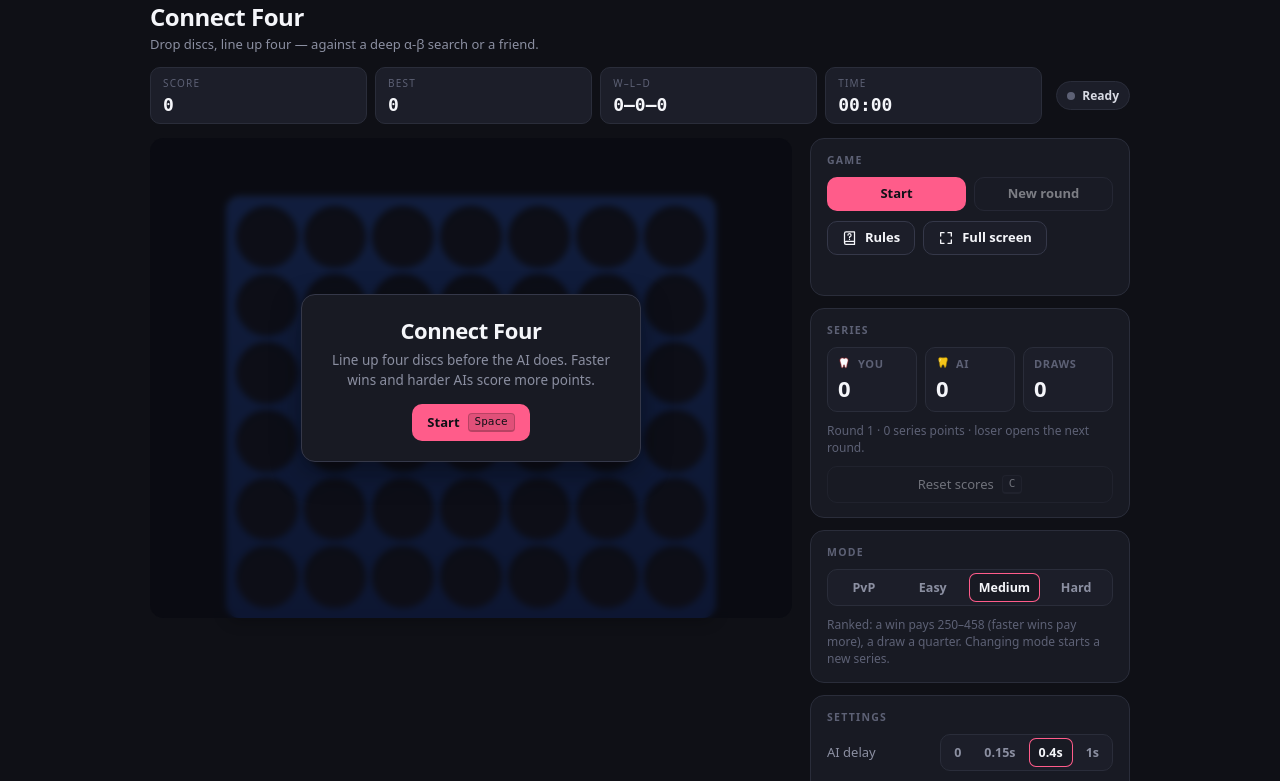
Test case: dental mode › draws red discs as incisors and yellow discs as gold molars
Press n
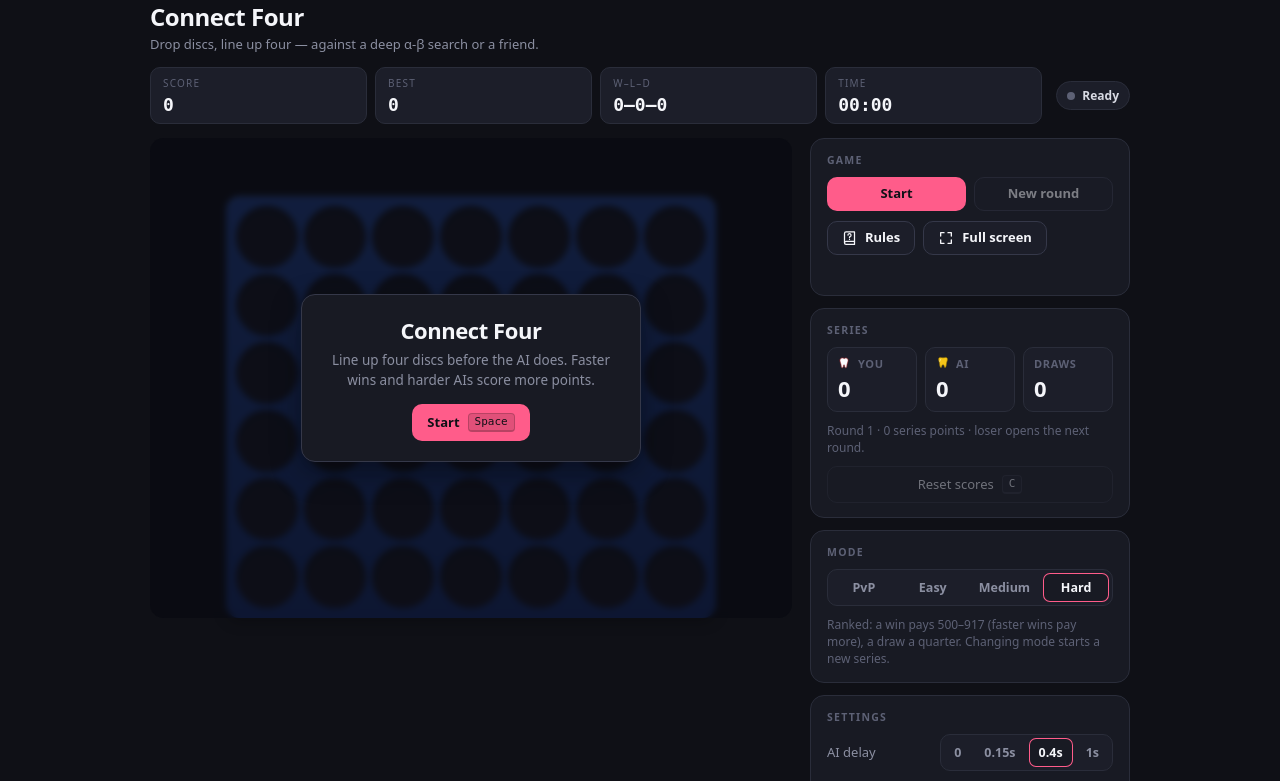
Press n
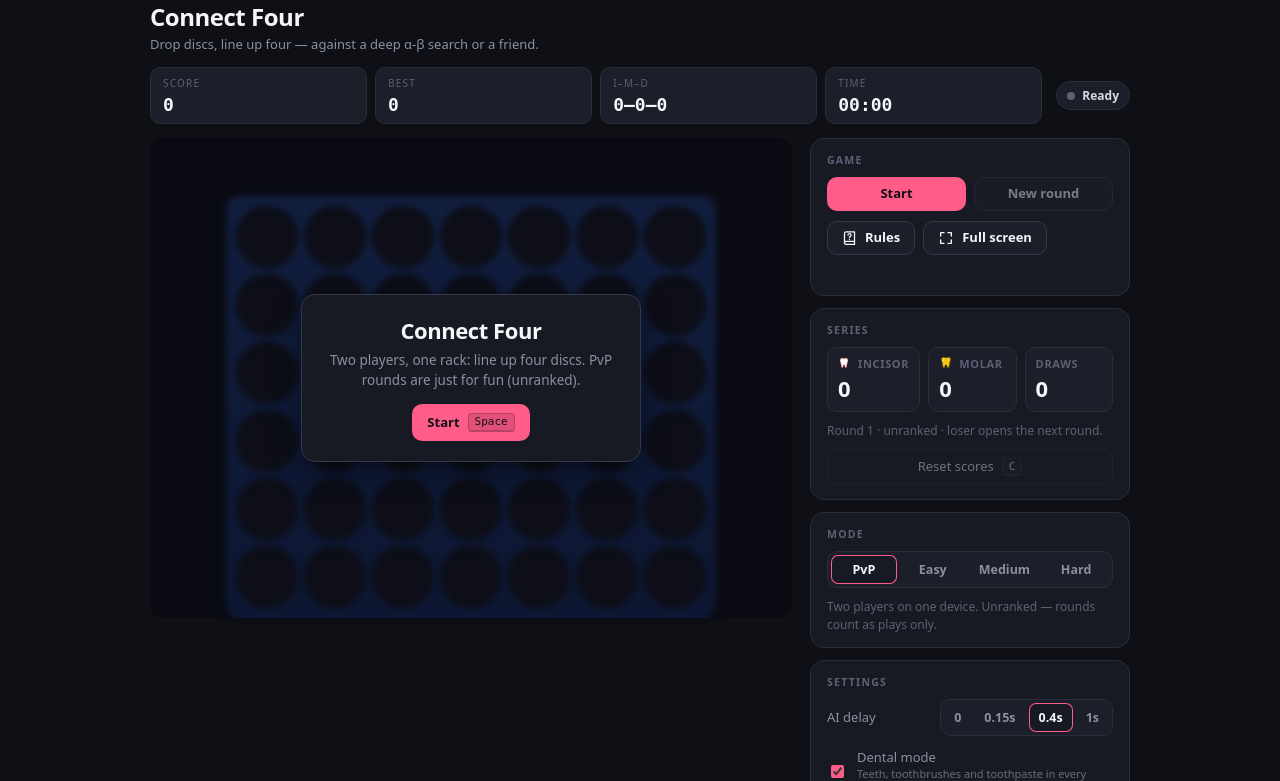
Press Space
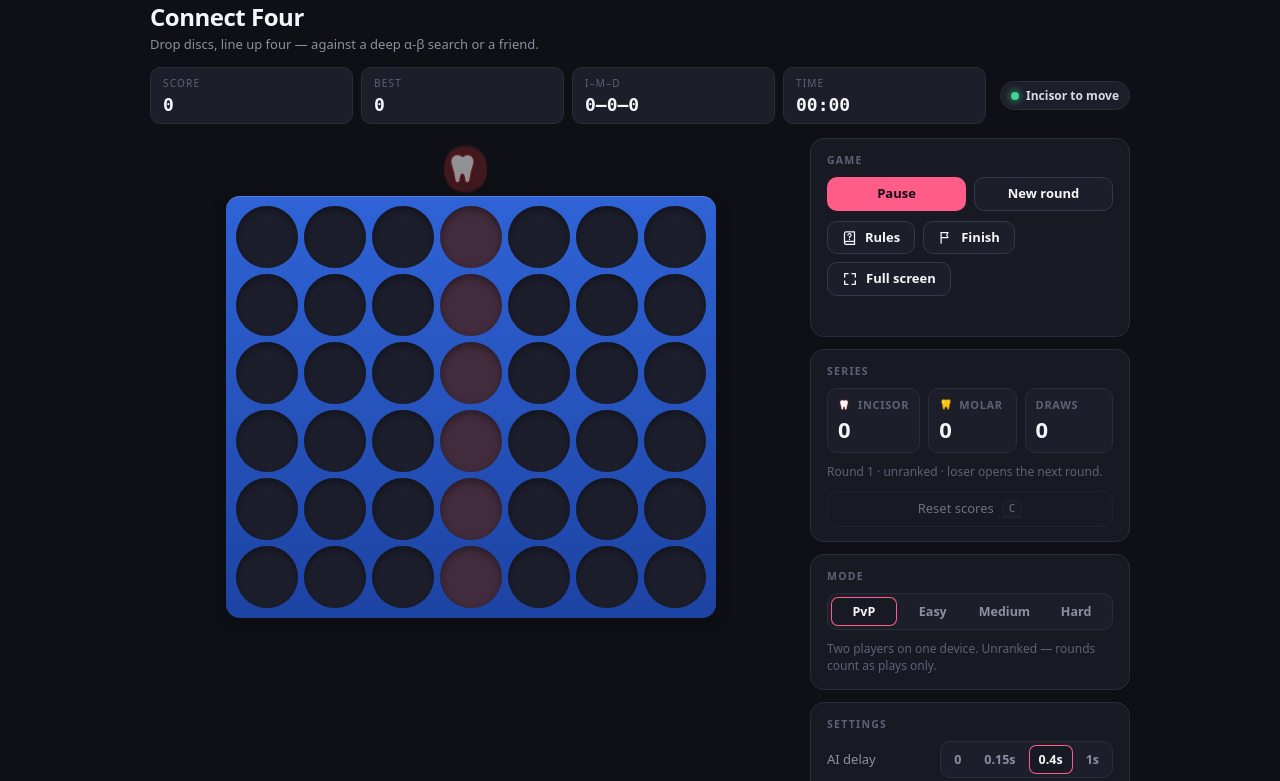
Click the button named "Column 4, empty" at (471, 373), box [440,138,502,608]
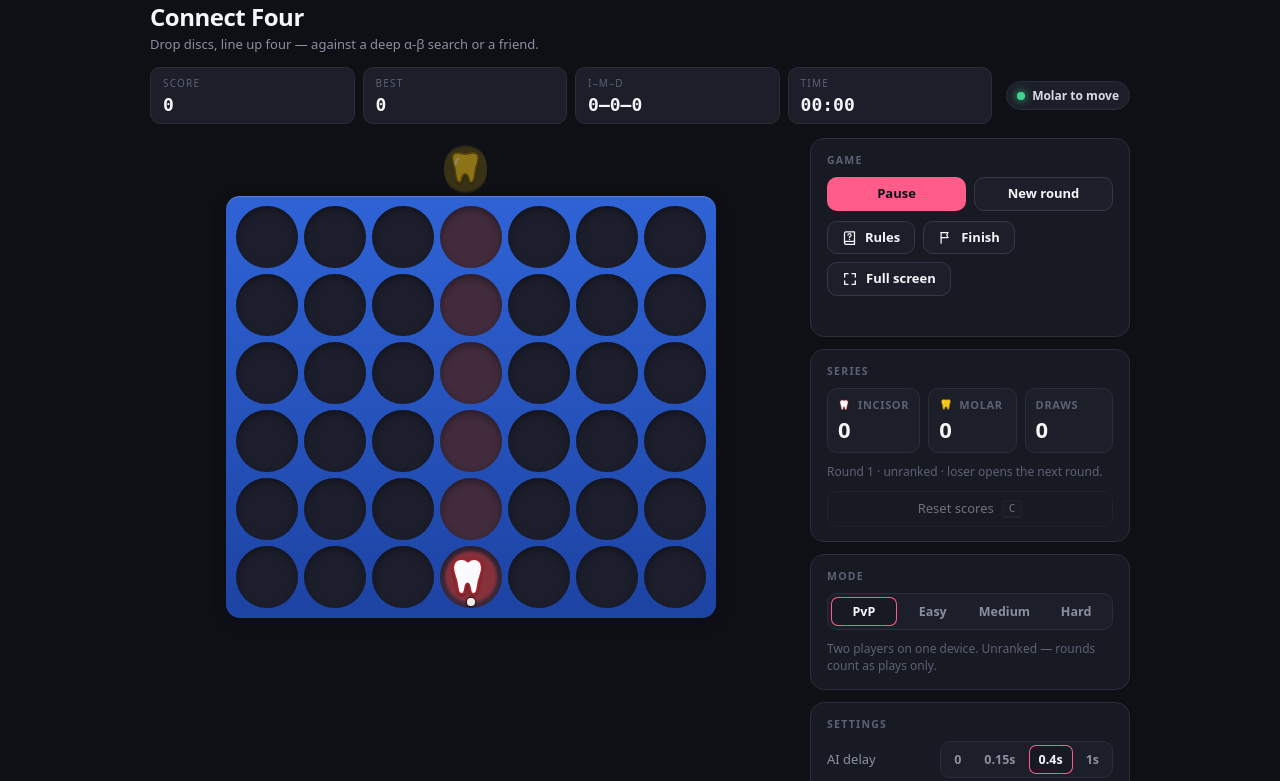
Click the button named "Column 5, empty" at (539, 373), box [508,138,570,608]
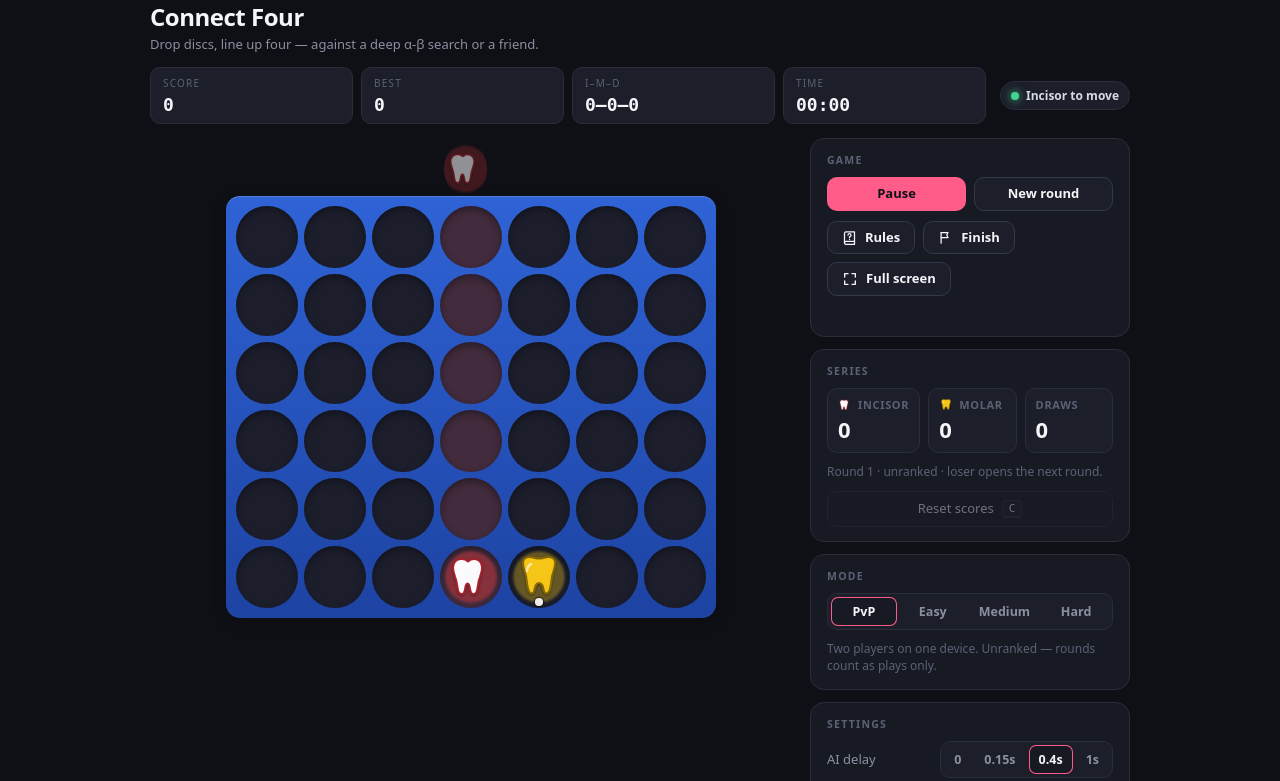
expect the number of elements with test id "c4-disc-tooth" is 1: met, box [444,550,498,604]
expect the number of elements with test id "c4-disc-molar" is 1: met, box [512,550,566,604]
